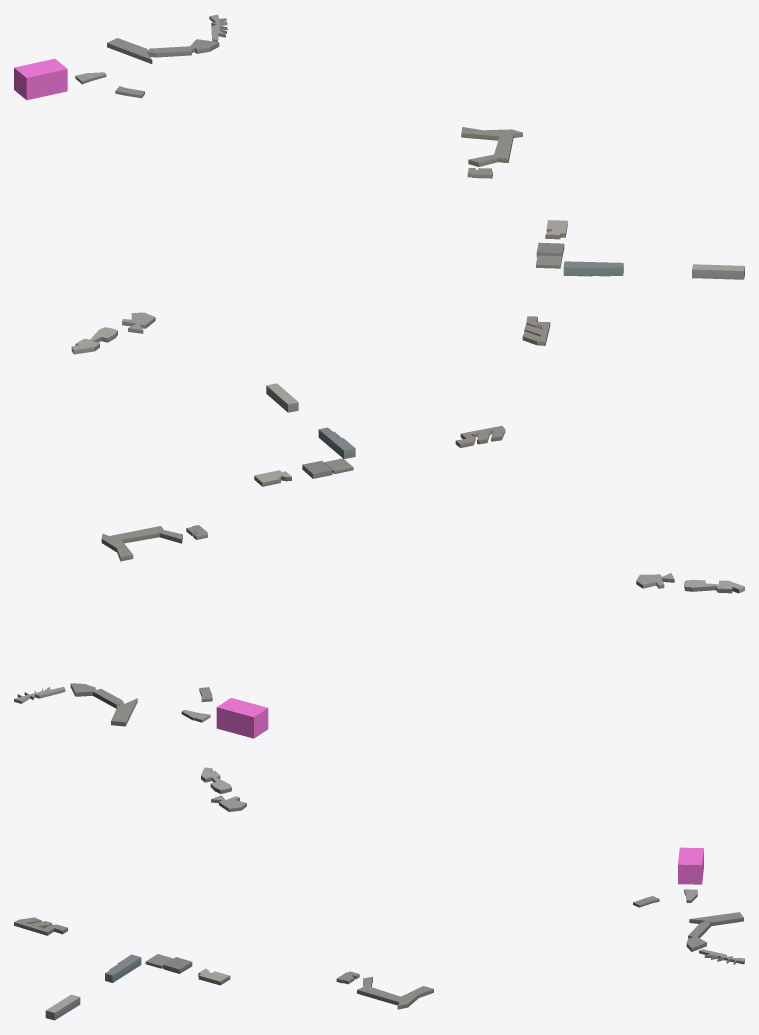
Rendered from bld_10_9.fbx.
The picture shows the model from 3 angles, top to bottom: view 1: azimuth 30°, elevation 25°; view 2: azimuth 150°, elevation 25°; view 3: azimuth 270°, elevation 25°; orthographic projection. The views are drawn at different scales.
Visible parts, largest first — view 1: bld_10_9_LOD0, bld_10_9_COL; view 2: bld_10_9_LOD0, bld_10_9_COL; view 3: bld_10_9_LOD0, bld_10_9_COL.
Part boxes in pixels (<box>): bld_10_9_LOD0: <box>71,14,744,354</box>; bld_10_9_COL: <box>14,58,67,100</box>; bld_10_9_LOD0: <box>14,383,744,726</box>; bld_10_9_COL: <box>216,698,268,738</box>; bld_10_9_LOD0: <box>14,767,744,1020</box>; bld_10_9_COL: <box>678,847,703,884</box>.
Size of what is drawn, in the model's own units: 1655 by 60.27 by 2051.
